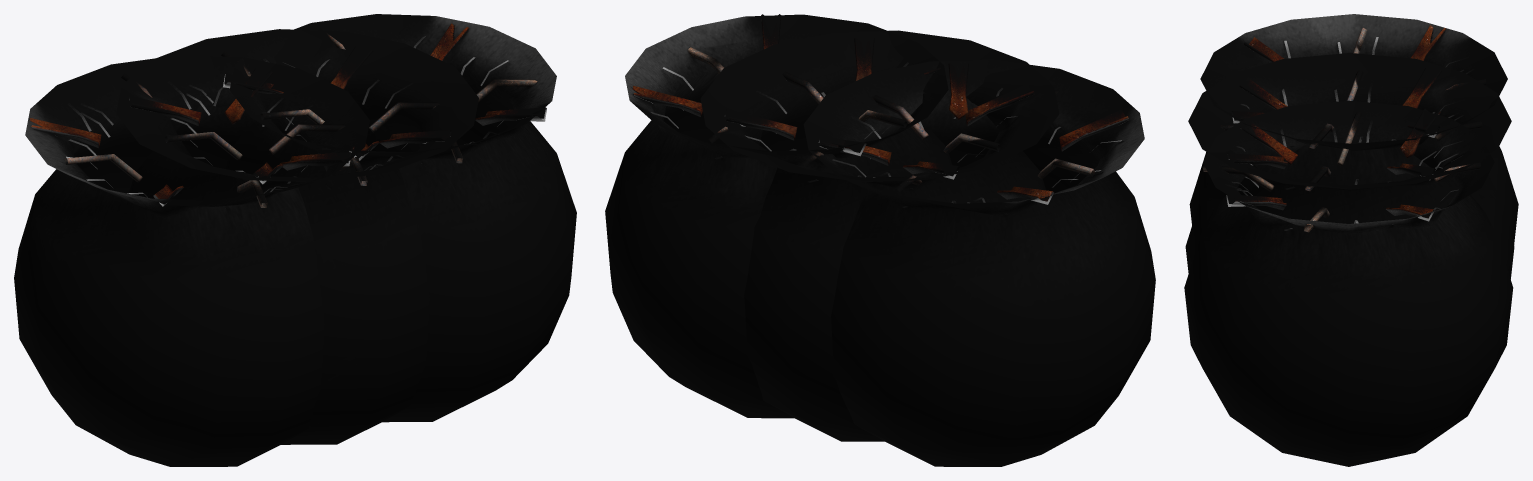
The model's file is Holes_Only.fbx.
The picture shows the model from 3 angles, left to right: view 1: azimuth 30°, elevation 25°; view 2: azimuth 150°, elevation 25°; view 3: azimuth 270°, elevation 25°; orthographic projection. The views are drawn at different scales.
Parts seen in each view (by area): view 1: Left_Hole.Only, Right_Hole.Only, Center_Hole.Only; view 2: Left_Hole.Only, Right_Hole.Only, Center_Hole.Only; view 3: Right_Hole.Only, Center_Hole.Only, Left_Hole.Only.
Boxes of the visible parts, left/top/right/bottom form: Left_Hole.Only: left=14, top=55, right=369, bottom=466; Right_Hole.Only: left=223, top=14, right=576, bottom=422; Center_Hole.Only: left=116, top=29, right=478, bottom=444; Left_Hole.Only: left=803, top=59, right=1155, bottom=466; Right_Hole.Only: left=605, top=14, right=952, bottom=418; Center_Hole.Only: left=700, top=30, right=1059, bottom=441; Right_Hole.Only: left=1184, top=100, right=1513, bottom=466; Center_Hole.Only: left=1185, top=53, right=1514, bottom=279; Left_Hole.Only: left=1189, top=14, right=1518, bottom=244.
Bounding box in the file's own units: 534 × 325 × 339.
